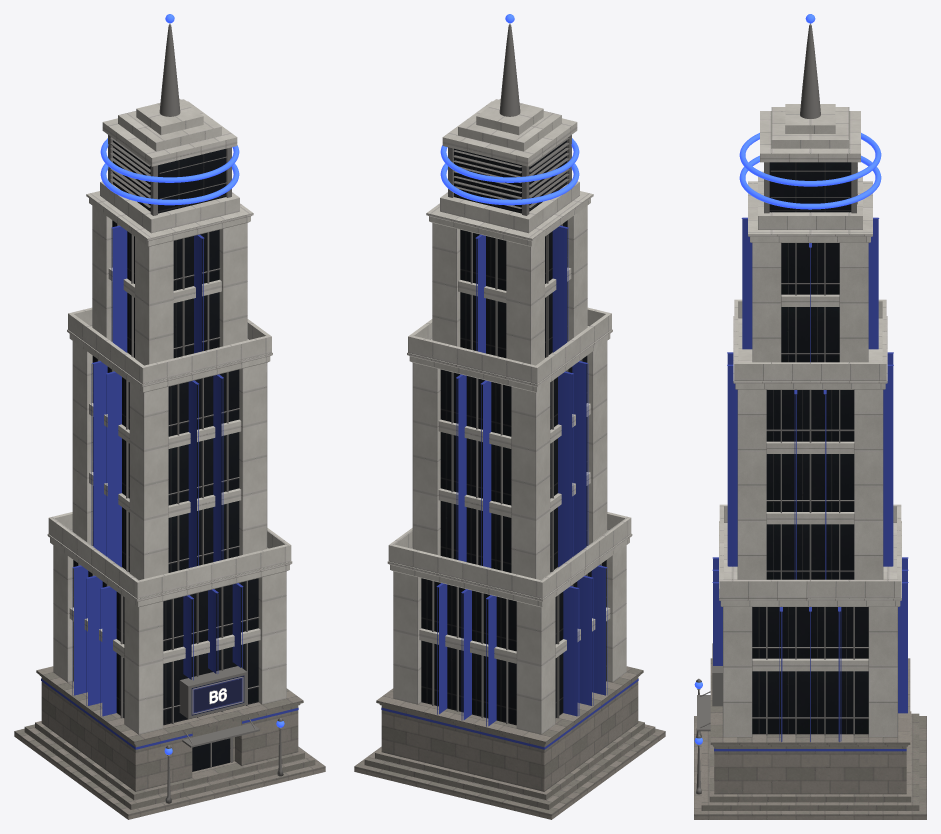
File: s06-blockchain.glb
The picture shows the model from 3 angles, left to right: view 1: azimuth 30°, elevation 25°; view 2: azimuth 150°, elevation 25°; view 3: azimuth 270°, elevation 25°; orthographic projection. The views are drawn at different scales.
Visible parts, largest first — view 1: Landmark · Blockchain (Series 6); view 2: Landmark · Blockchain (Series 6); view 3: Landmark · Blockchain (Series 6).
Part boxes in pixels (box(x1,y1,x2,y2)): Landmark · Blockchain (Series 6): box(14, 14, 325, 819); Landmark · Blockchain (Series 6): box(354, 14, 665, 819); Landmark · Blockchain (Series 6): box(694, 14, 926, 819).
Bounding box in the file's own units: 12 × 43 × 12.
Materials: 7 (4 with a texture image).
